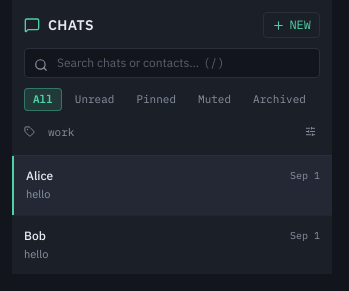
Scenario: ChatList tag filter › narrows the rail to the chats carrying a tag
Check: the text "Bob" is shown, box [24, 228, 46, 244]
Click the button "work" at (61, 132), box [39, 120, 83, 143]
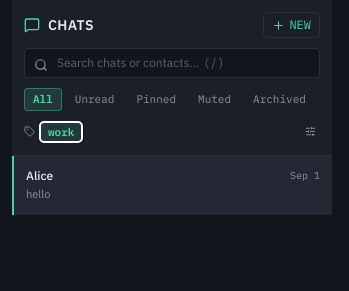
Check: the text "Alice" is shown, box [26, 168, 53, 184]
Check: the button "Bob" is gone
